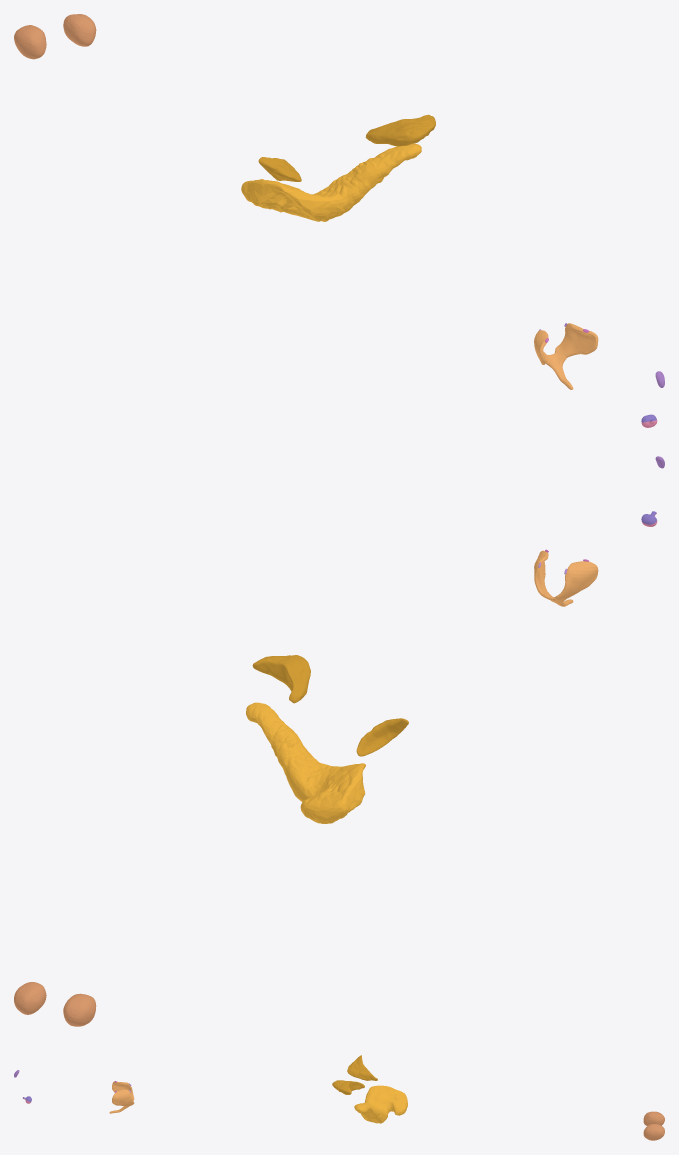
Rendered from meshopt-lossless-910465afdef6.glb.
3 renders of one model, top to bottom at view 1: azimuth 30°, elevation 25°; view 2: azimuth 150°, elevation 25°; view 3: azimuth 270°, elevation 25°, orthographic. The views are drawn at different scales.
Visible parts, largest first — view 1: 胰, 甲状腺, 左侧肾上腺, 右侧睾丸, 左侧睾丸, 右侧肾上腺; view 2: 胰, 甲状腺, 左侧肾上腺, 右侧肾上腺, 右侧睾丸, 左侧睾丸; view 3: 胰, 甲状腺, 右侧肾上腺, 左侧肾上腺, 左侧睾丸, 右侧睾丸.
Part boxes in pixels (x1=…): 胰: x1=241, y1=143, x2=421, y2=221; 甲状腺: x1=534, y1=323, x2=598, y2=389; 左侧肾上腺: x1=365, y1=114, x2=435, y2=146; 右侧睾丸: x1=14, y1=25, x2=46, y2=59; 左侧睾丸: x1=63, y1=14, x2=96, y2=46; 右侧肾上腺: x1=258, y1=157, x2=301, y2=181; 胰: x1=246, y1=702, x2=365, y2=823; 甲状腺: x1=534, y1=550, x2=598, y2=606; 左侧肾上腺: x1=252, y1=655, x2=310, y2=703; 右侧肾上腺: x1=356, y1=718, x2=408, y2=756; 右侧睾丸: x1=63, y1=993, x2=96, y2=1026; 左侧睾丸: x1=14, y1=982, x2=46, y2=1014; 胰: x1=354, y1=1085, x2=407, y2=1123; 甲状腺: x1=109, y1=1081, x2=134, y2=1113; 右侧肾上腺: x1=347, y1=1055, x2=377, y2=1080; 左侧肾上腺: x1=332, y1=1080, x2=364, y2=1094; 左侧睾丸: x1=643, y1=1124, x2=664, y2=1140; 右侧睾丸: x1=643, y1=1111, x2=664, y2=1125.
Bounding box in the file's own units: 0.1546 × 0.1148 × 1.
